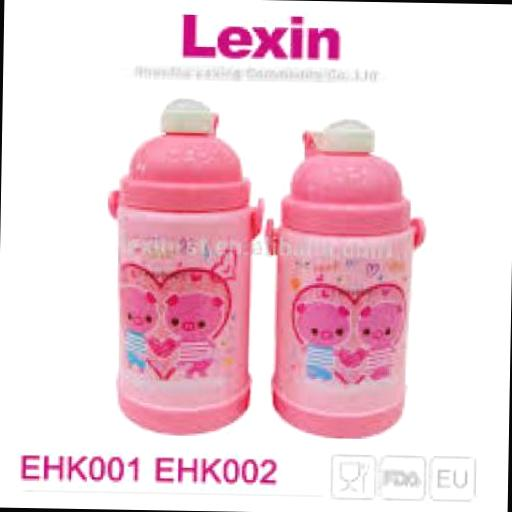plastic: (262, 116, 428, 440), (104, 94, 258, 432), (119, 92, 249, 216), (278, 116, 412, 234)
